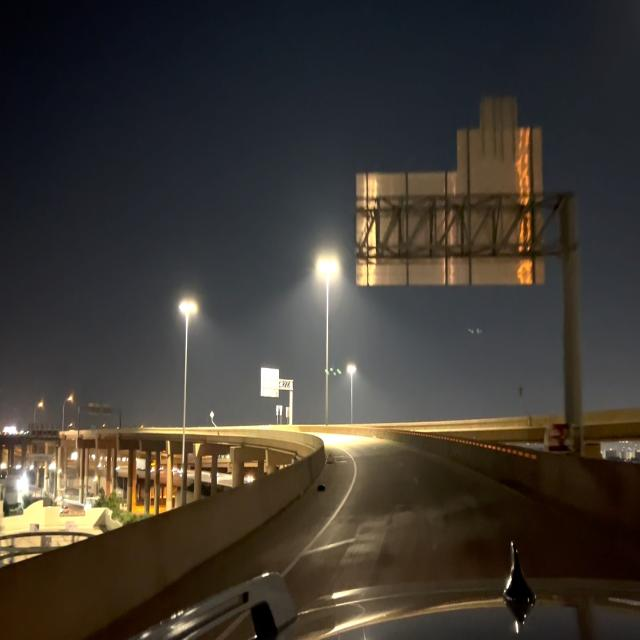back-of-sign: (355, 177, 543, 286), (457, 129, 544, 174), (481, 94, 517, 127)
